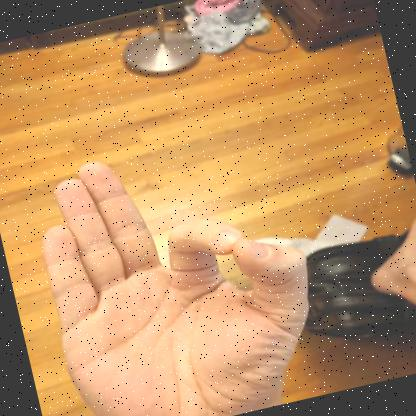F: (42, 162, 309, 416)
